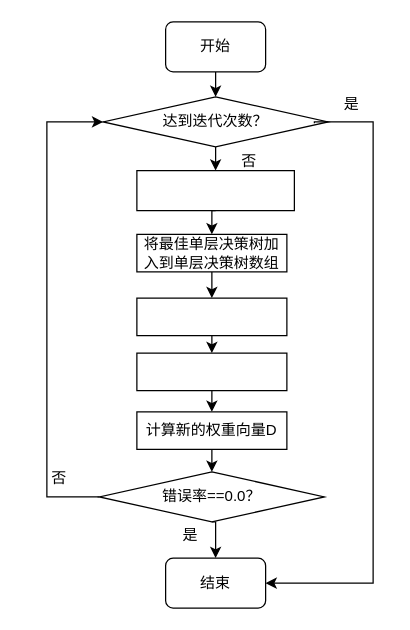
Image size: 410x630. Some labels were removed from this diagram. Each missing label, with the box of its shape:
利用buildStump函数找到最佳的单层决策树: (136, 169, 294, 211)
更新累计类别估计值: (136, 297, 287, 336)
计算alpha: (136, 352, 287, 391)
